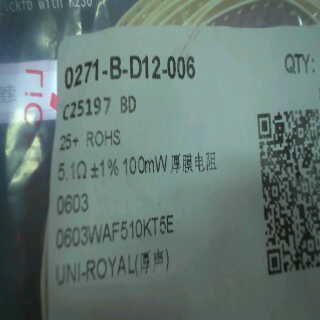5.1R: (58, 157, 89, 187)
